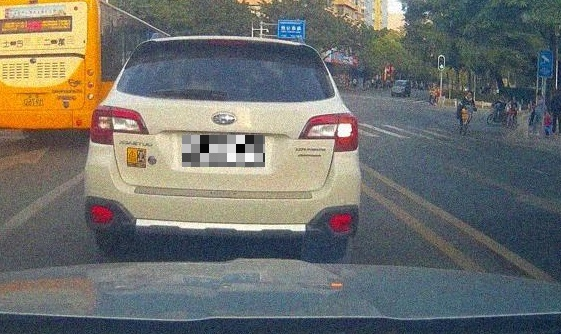L_light: (89, 103, 149, 147)
R_light: (297, 112, 359, 152)
T_light: (207, 38, 249, 46)
day-right: (83, 35, 361, 259)
plate_1: (182, 135, 265, 167)
